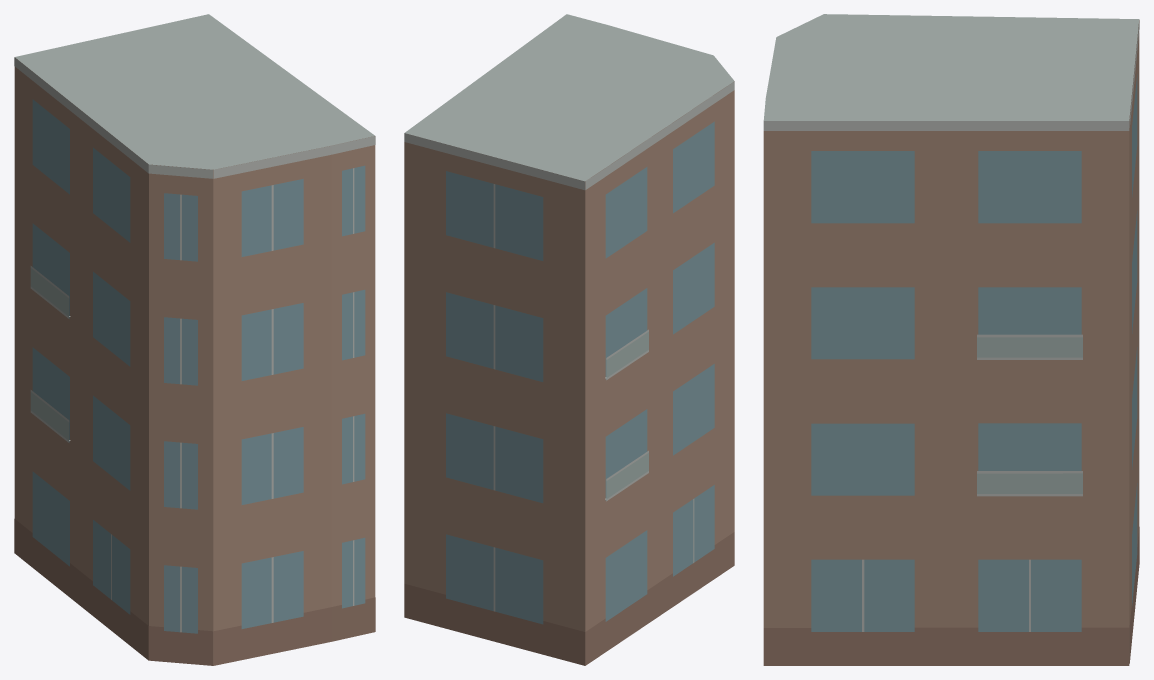
File: survey-upis-32471753.glb
3 renders of one model, left to right at view 1: azimuth 30°, elevation 25°; view 2: azimuth 150°, elevation 25°; view 3: azimuth 270°, elevation 25°, orthographic. The views are drawn at different scales.
Parts seen in each view (by area): view 1: survey-upis-32471753.tmp; view 2: survey-upis-32471753.tmp; view 3: survey-upis-32471753.tmp.
Part boxes in pixels (left/top/right/bottom): survey-upis-32471753.tmp: left=14, top=14, right=375, bottom=665; survey-upis-32471753.tmp: left=404, top=14, right=734, bottom=665; survey-upis-32471753.tmp: left=763, top=14, right=1139, bottom=665.
Bounding box in the file's own units: 5.61 × 13.25 × 8.29.
